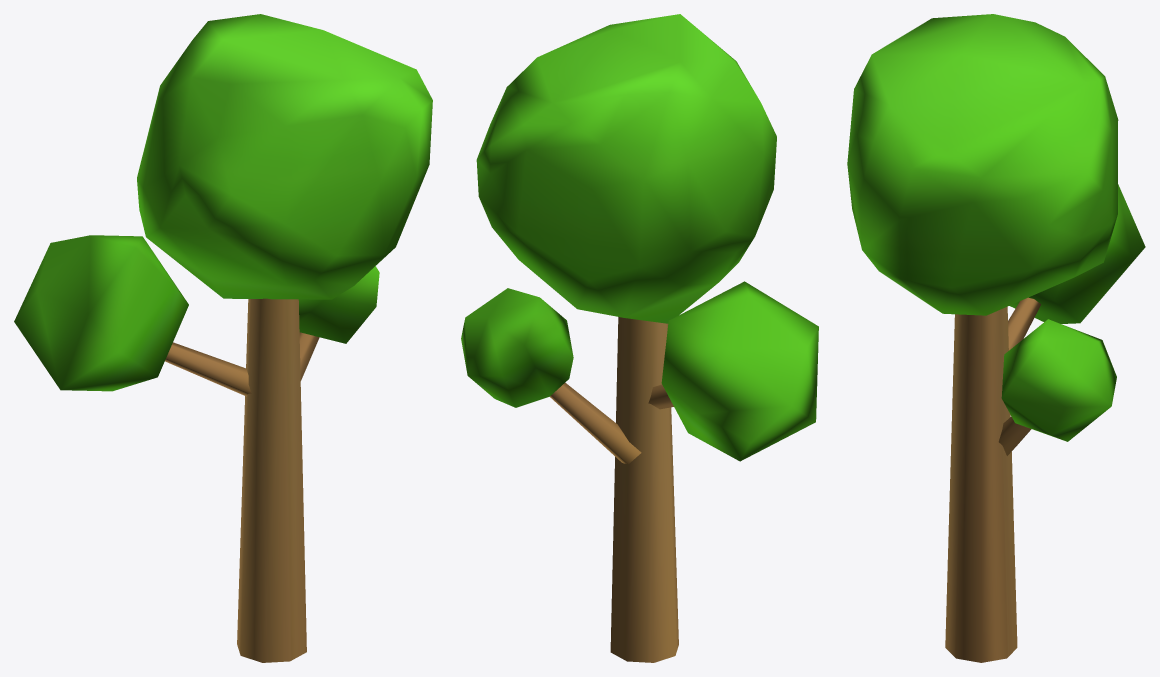
The model's file is tree.fbx.
The picture shows the model from 3 angles, left to right: view 1: azimuth 30°, elevation 25°; view 2: azimuth 150°, elevation 25°; view 3: azimuth 270°, elevation 25°; orthographic projection. The views are drawn at different scales.
Parts seen in each view (by area): view 1: tree; view 2: tree; view 3: tree.
Part boxes in pixels (x1=…): tree: x1=14, y1=14, x2=432, y2=662; tree: x1=461, y1=14, x2=818, y2=662; tree: x1=847, y1=14, x2=1145, y2=662.
Bounding box in the file's own units: 452 × 759 × 335.
